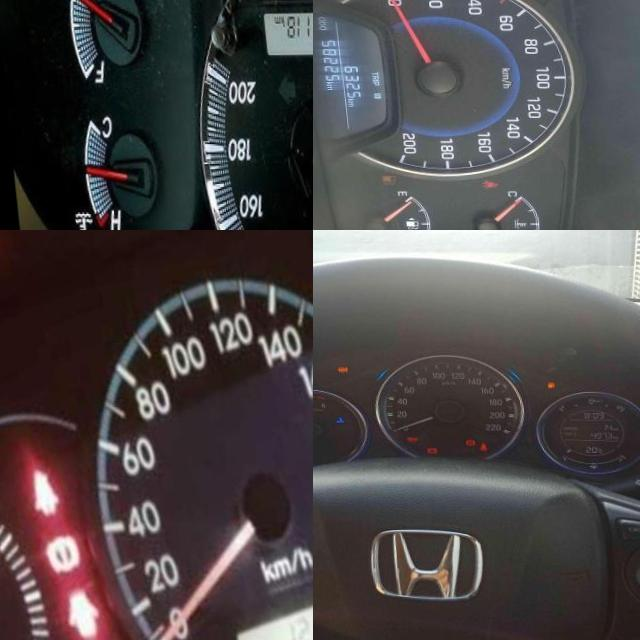Seat Belt: (17, 466, 55, 519)
